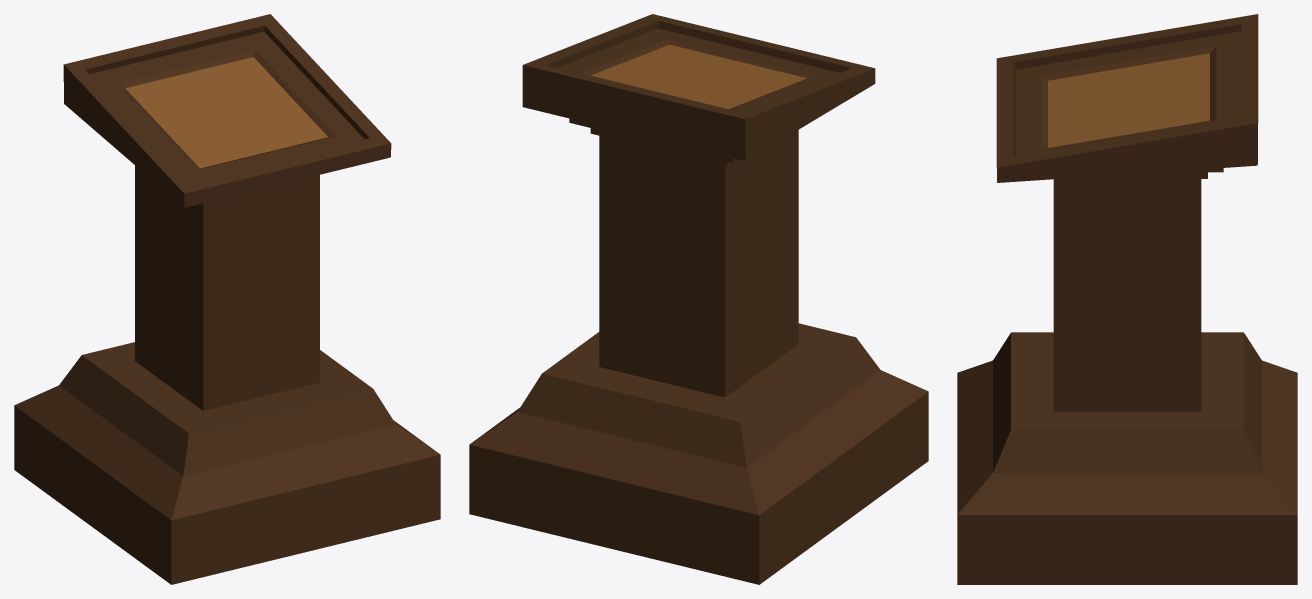
The model's file is Lectern.fbx.
The picture shows the model from 3 angles, left to right: view 1: azimuth 30°, elevation 25°; view 2: azimuth 150°, elevation 25°; view 3: azimuth 270°, elevation 25°; orthographic projection. The views are drawn at different scales.
Parts seen in each view (by area): view 1: pCube2; view 2: pCube2; view 3: pCube2.
Boxes of the visible parts, box(x1,y1,x2,y2) form: pCube2: box(14, 14, 440, 584); pCube2: box(469, 14, 928, 584); pCube2: box(957, 14, 1297, 584).
Bounding box in the file's own units: 1.34 × 1.95 × 1.35.
1 material, 1 textured.
